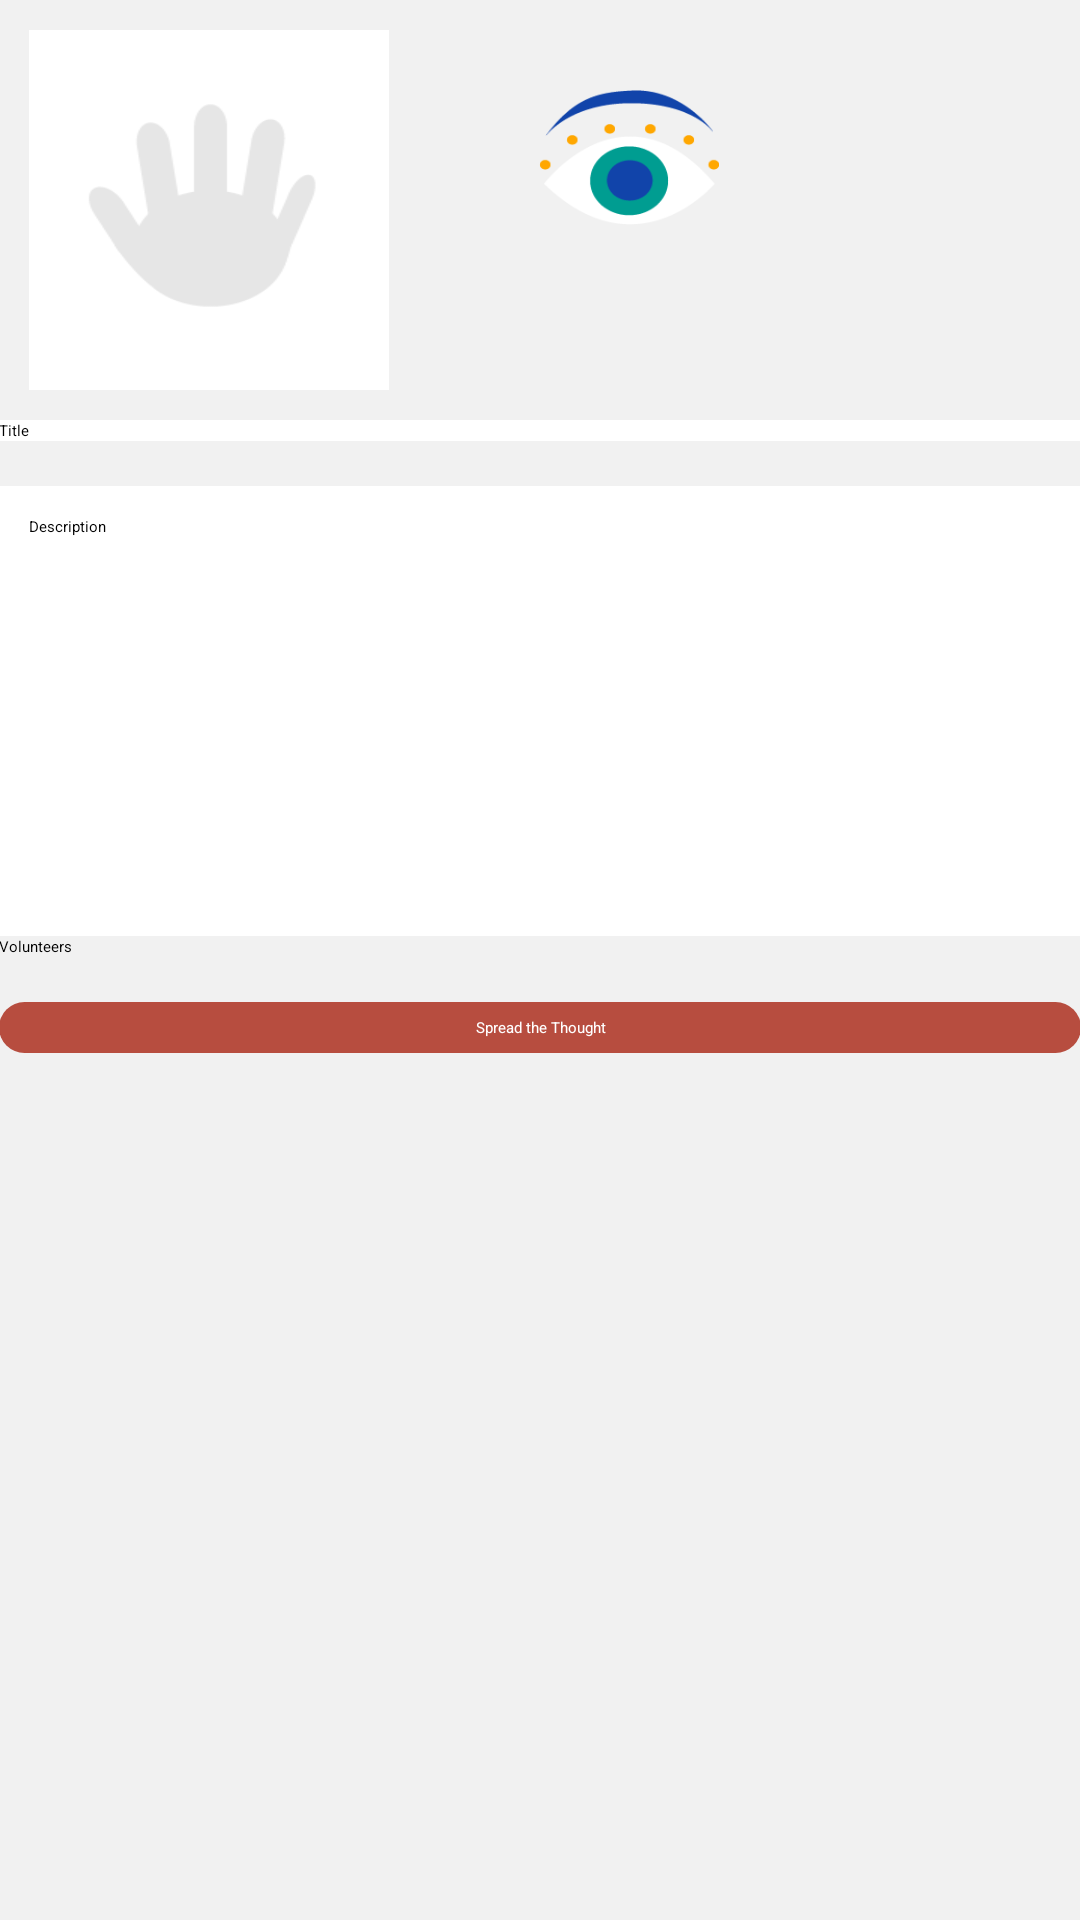

Screen size 1080px×1920px. Icon name, then its box in pixels as (x1, y1, x2, y2):
eye: (540, 90, 719, 216)
